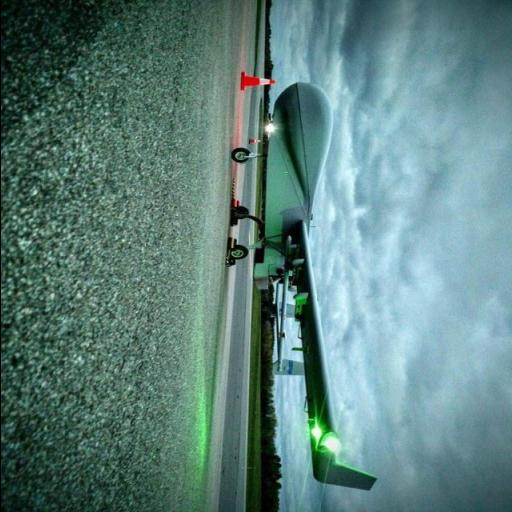uav: (216, 75, 378, 497)
